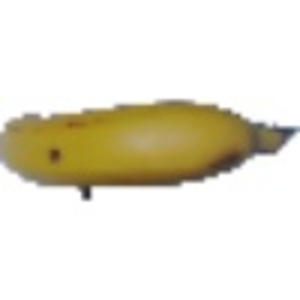banana: (1, 93, 287, 189)
